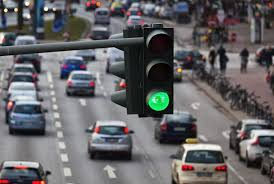signal: (142, 25, 175, 115)
